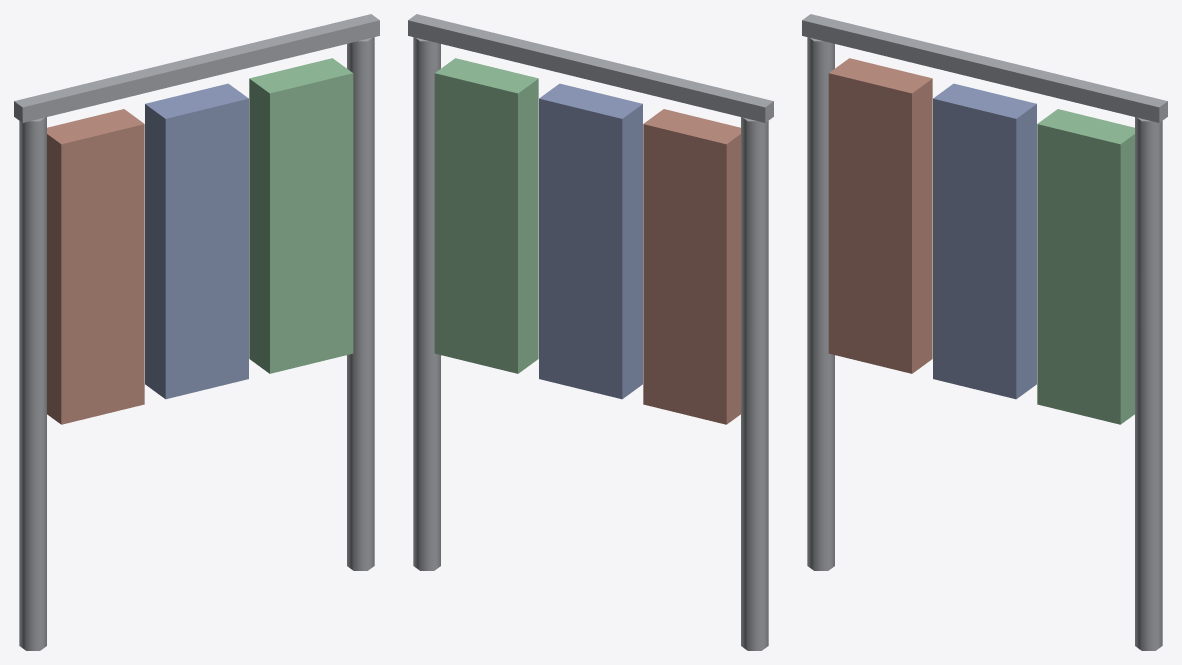
Rendered from costume-rack.gltf.
The picture shows the model from 3 angles, left to right: view 1: azimuth 30°, elevation 25°; view 2: azimuth 150°, elevation 25°; view 3: azimuth 330°, elevation 25°; orthographic projection.
Visible parts, largest first — view 1: Garment3, Garment2, Garment1, PostLeft, PostRight, Rail; view 2: Garment3, Garment2, Garment1, PostLeft, PostRight, Rail; view 3: Garment1, Garment2, Garment3, PostRight, PostLeft, Rail.
Boxes of the visible parts, x1=… form: Garment3: x1=249, y1=58, x2=353, y2=373; Garment2: x1=145, y1=83, x2=248, y2=399; Garment1: x1=47, y1=109, x2=144, y2=424; PostLeft: x1=19, y1=117, x2=46, y2=650; PostRight: x1=347, y1=37, x2=374, y2=570; Rail: x1=14, y1=14, x2=379, y2=122; Garment3: x1=434, y1=58, x2=538, y2=373; Garment2: x1=539, y1=83, x2=642, y2=399; Garment1: x1=643, y1=109, x2=740, y2=424; PostLeft: x1=741, y1=117, x2=768, y2=650; PostRight: x1=413, y1=37, x2=440, y2=570; Rail: x1=408, y1=14, x2=773, y2=122; Garment1: x1=828, y1=58, x2=932, y2=373; Garment2: x1=933, y1=83, x2=1036, y2=399; Garment3: x1=1037, y1=109, x2=1134, y2=424; PostRight: x1=1135, y1=117, x2=1162, y2=650; PostLeft: x1=807, y1=37, x2=834, y2=570; Rail: x1=802, y1=14, x2=1167, y2=122.
Size of the model in its own units: 1.2 by 1.75 by 0.12.
